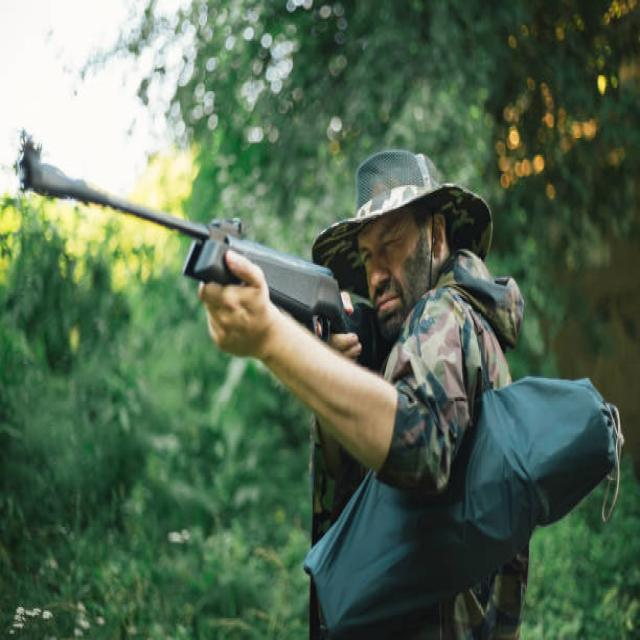soldier: (17, 81, 570, 640)
